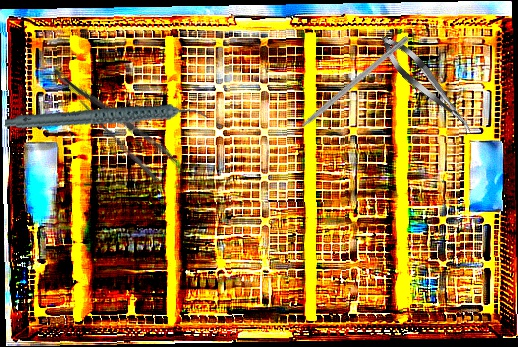Chopper: (278, 29, 410, 143)
Dressing Forceps: (50, 50, 180, 186)
Handpiece: (3, 76, 209, 163)
Micro Scissor: (373, 28, 481, 141)
